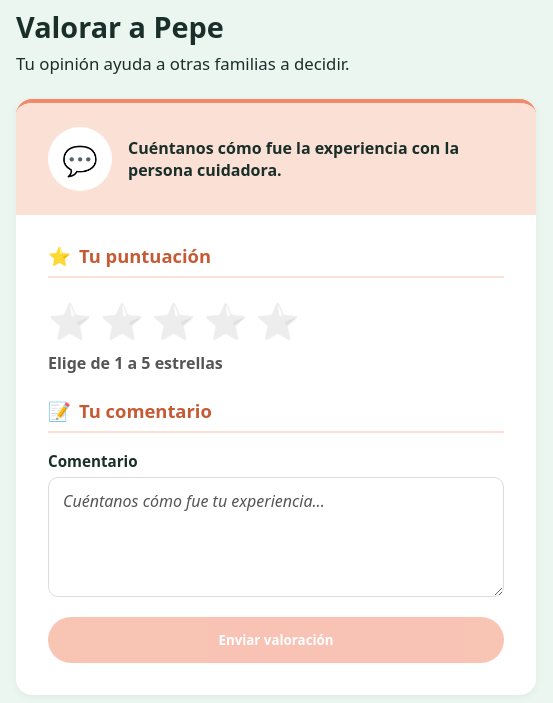
Test: ValorarView › al hacer click en una estrella se habilita el botón de enviar
Click the 3rd text "⭐": (174, 320) top-left (152, 296), bottom-right (196, 344)
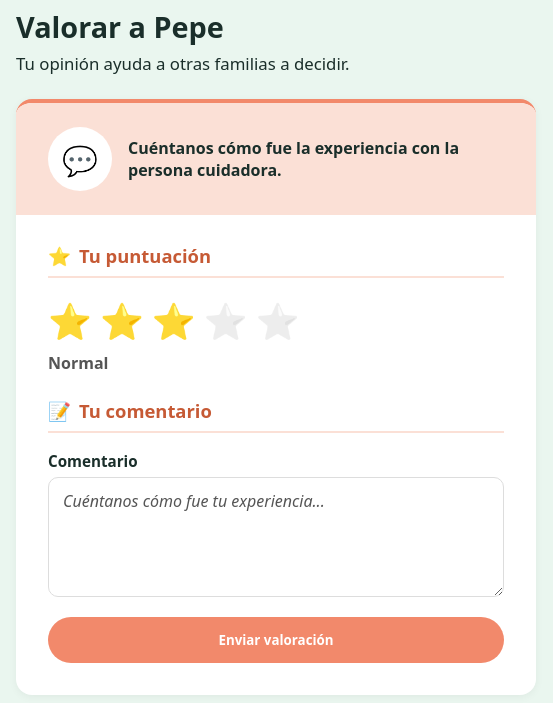
Check: the submit button is enabled, box top-left (48, 617), bottom-right (504, 663)
